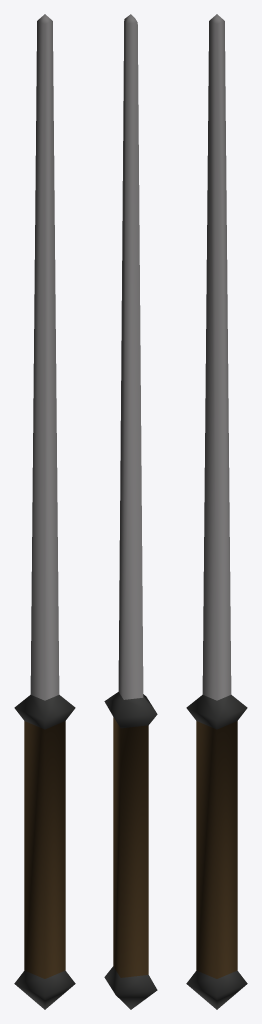
The model's file is maple-wand.glb.
The picture shows the model from 3 angles, left to right: view 1: azimuth 90°, elevation 25°; view 2: azimuth 150°, elevation 25°; view 3: azimuth 270°, elevation 25°; orthographic projection.
Parts seen in each view (by area): view 1: wand_1; view 2: wand_1; view 3: wand_1.
Boxes of the visible parts, left/top/right/bottom form: wand_1: left=14, top=14, right=75, bottom=1009; wand_1: left=104, top=14, right=157, bottom=1009; wand_1: left=186, top=14, right=247, bottom=1009.
Size of the model in its own units: 0.0402 by 0.7191 by 0.0402.
